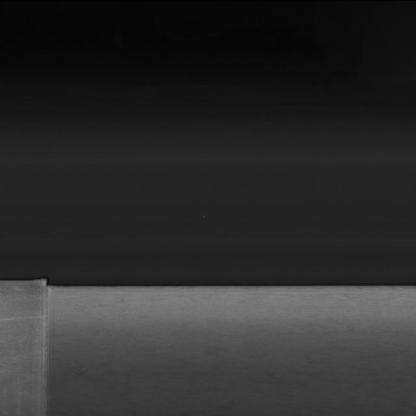welding_line: (34, 278, 57, 413)
